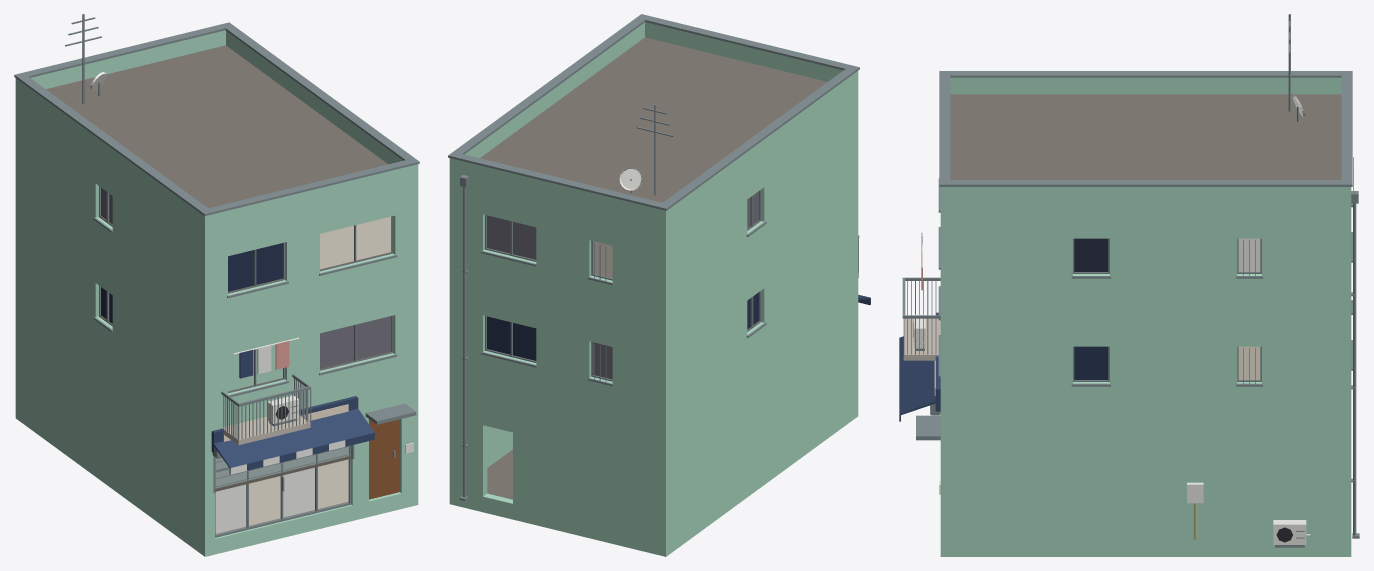
Rendered from tb_shop_house_3f_01_c.fbx.
3 renders of one model, left to right at view 1: azimuth 30°, elevation 25°; view 2: azimuth 150°, elevation 25°; view 3: azimuth 270°, elevation 25°, orthographic. The views are drawn at different scales.
Visible parts, largest first — view 1: tb_shop_house_3f_01_c; view 2: tb_shop_house_3f_01_c; view 3: tb_shop_house_3f_01_c.
Part boxes in pixels (x1,y1,x2,y2): tb_shop_house_3f_01_c: (14,14,419,556); tb_shop_house_3f_01_c: (448,14,870,556); tb_shop_house_3f_01_c: (899,14,1359,556).
Size of what is drawn, in the model's own units: 7.01 by 12.1 by 11.2.
3 materials, 3 textured.
